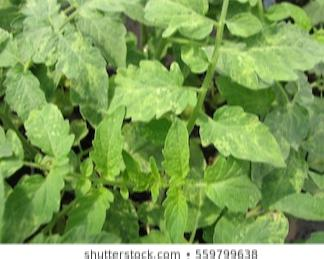Tomato leaf mosaic virus: (216, 22, 324, 89), (87, 58, 198, 122), (198, 106, 291, 171), (2, 166, 74, 241), (76, 4, 135, 75), (59, 35, 112, 112), (203, 160, 269, 216), (25, 100, 77, 171), (93, 105, 134, 182), (145, 0, 214, 43), (164, 115, 196, 184), (272, 189, 324, 225), (165, 186, 194, 244), (228, 14, 264, 40)
